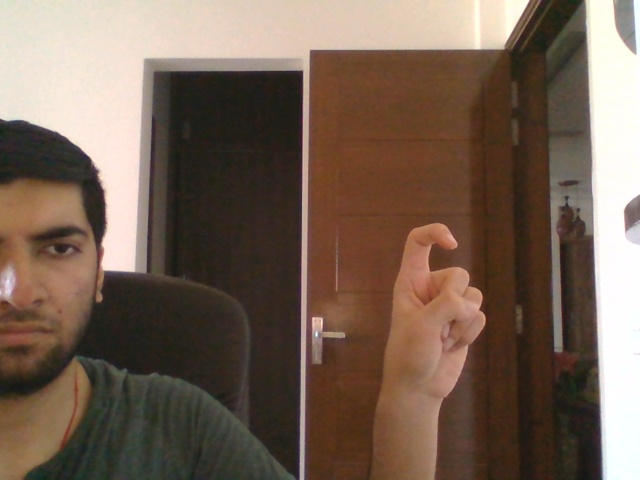LetterX: (378, 219, 489, 406)
